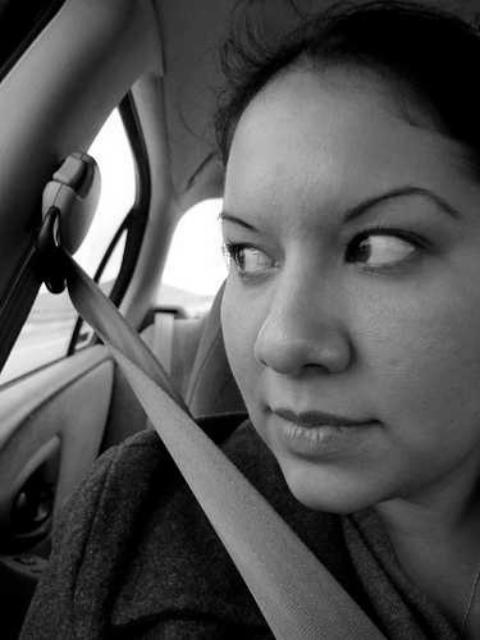SafeDriving: (328, 206, 454, 282), (209, 217, 292, 290)
Seatbelt: (36, 146, 394, 640)
